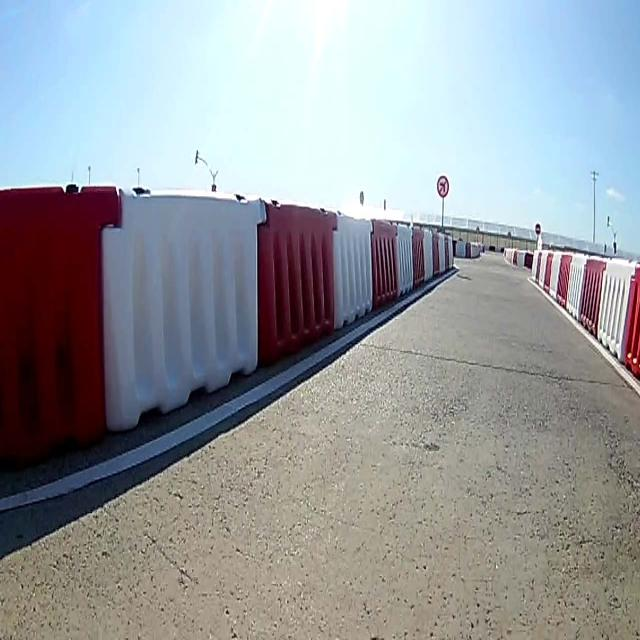soladonulmez: (437, 174, 450, 198)
